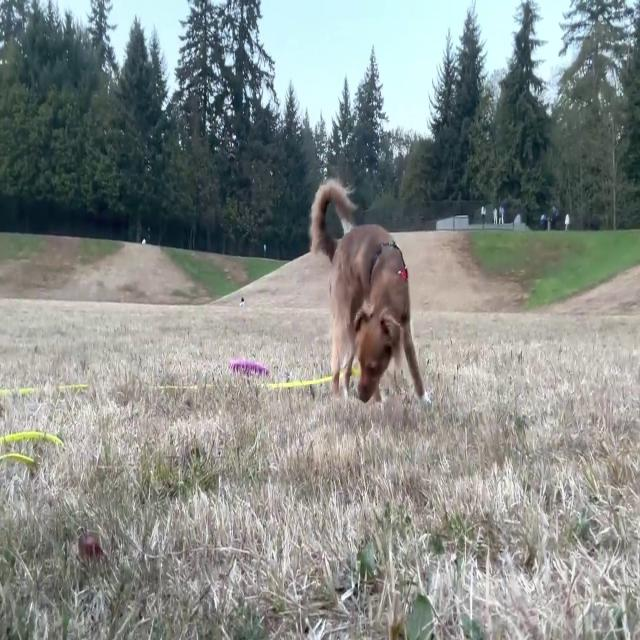Dog: (310, 178, 432, 405)
